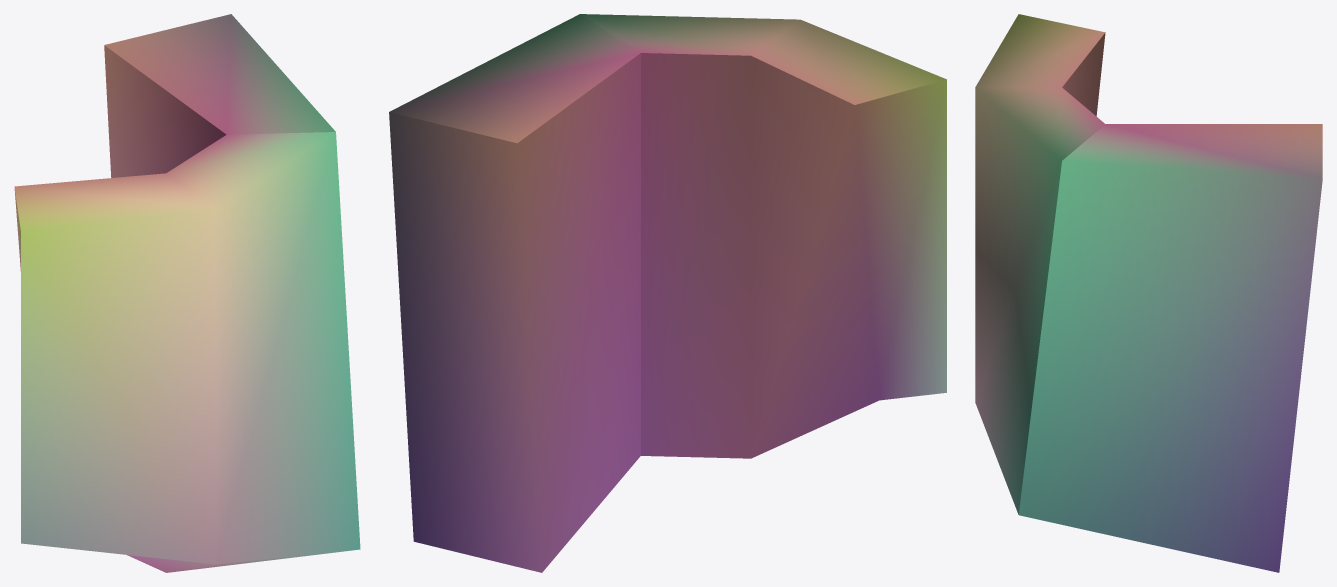
The picture shows the model from 3 angles, left to right: view 1: azimuth 30°, elevation 25°; view 2: azimuth 150°, elevation 25°; view 3: azimuth 270°, elevation 25°; orthographic projection. The views are drawn at different scales.
Visible parts, largest first — view 1: part; view 2: part; view 3: part.
Boxes of the visible parts, bbox=[...] form: part: bbox=[14, 14, 360, 572]; part: bbox=[389, 14, 946, 572]; part: bbox=[975, 14, 1322, 572].
Bounding box in the file's own units: 9 × 10 × 8.
